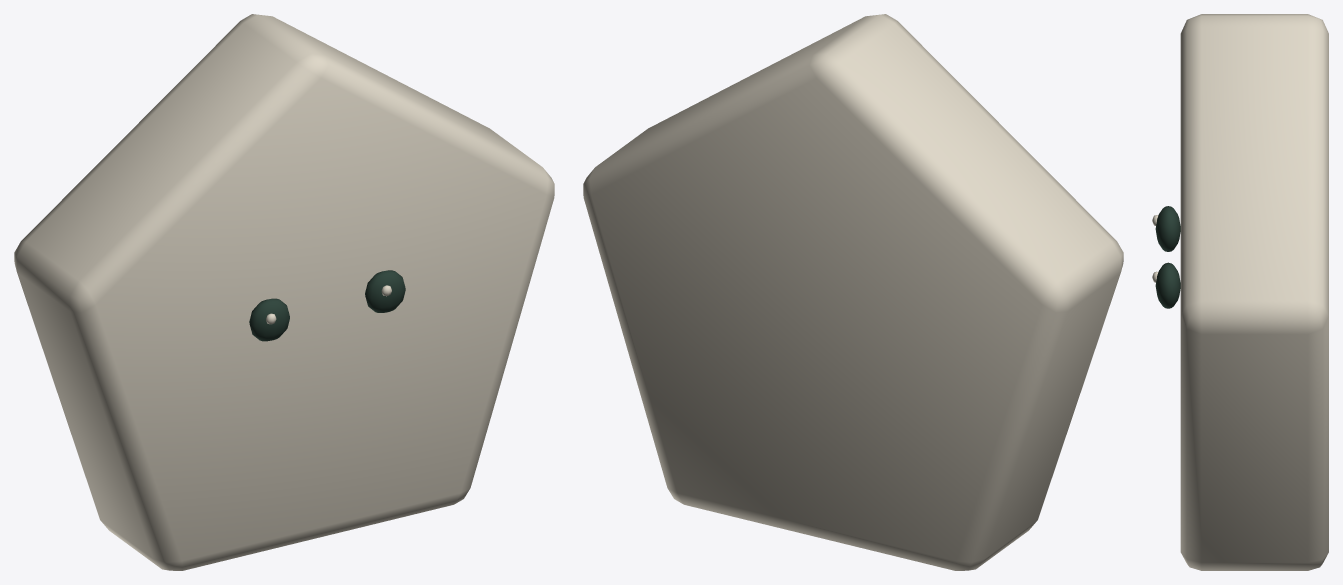
File: shape_pentagon.glb
The picture shows the model from 3 angles, left to right: view 1: azimuth 30°, elevation 25°; view 2: azimuth 150°, elevation 25°; view 3: azimuth 270°, elevation 25°; orthographic projection.
Parts seen in each view (by area): view 1: color_body, body; view 2: color_body; view 3: color_body, body.
Part boxes in pixels (bbox=[...]): color_body: bbox=[14, 14, 554, 570]; body: bbox=[249, 270, 405, 341]; color_body: bbox=[583, 14, 1123, 570]; color_body: bbox=[1180, 14, 1328, 570]; body: bbox=[1152, 206, 1180, 308].
Bounding box in the file's own units: 1.21 × 1.16 × 0.382.
